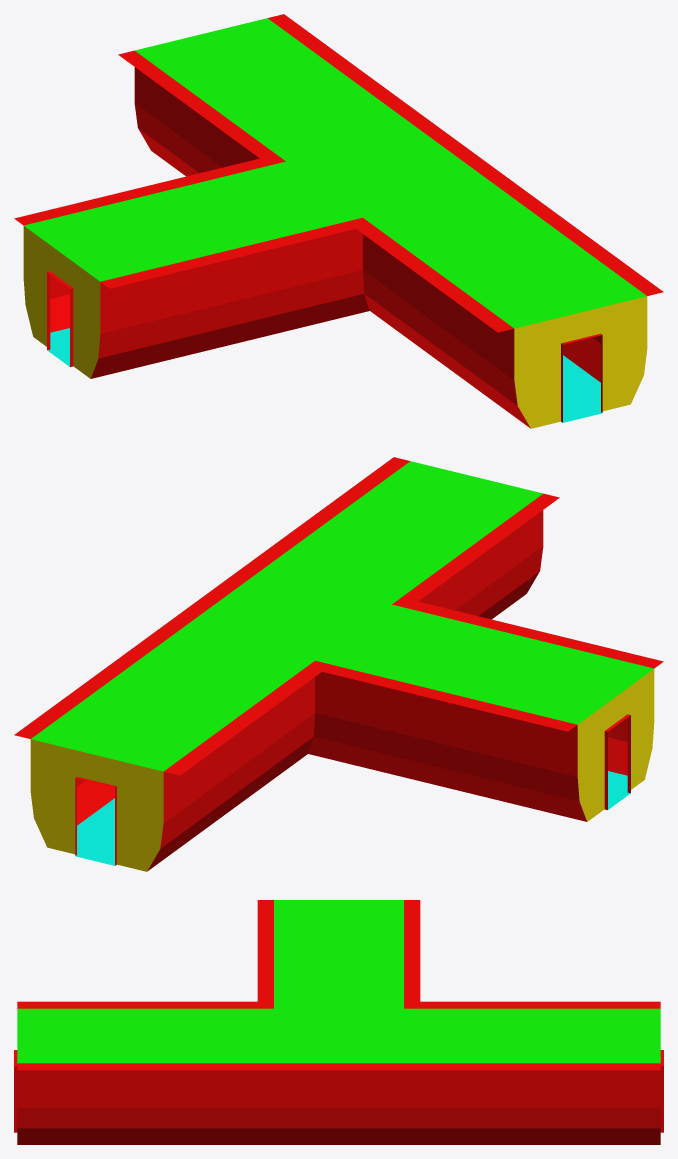
The model's file is ThreeWay.FBX.
3 renders of one model, top to bottom at view 1: azimuth 30°, elevation 25°; view 2: azimuth 150°, elevation 25°; view 3: azimuth 270°, elevation 25°, orthographic. The views are drawn at different scales.
Parts seen in each view (by area): view 1: Box003; view 2: Box003; view 3: Box003.
Part boxes in pixels (<box>): Box003: <box>14,14,663,428</box>; Box003: <box>14,457,663,871</box>; Box003: <box>14,900,663,1144</box>.
Bounding box in the file's own units: 1250 × 300 × 2000.
